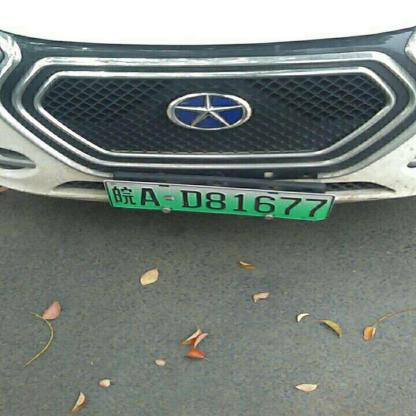lp: (104, 180, 334, 218)
